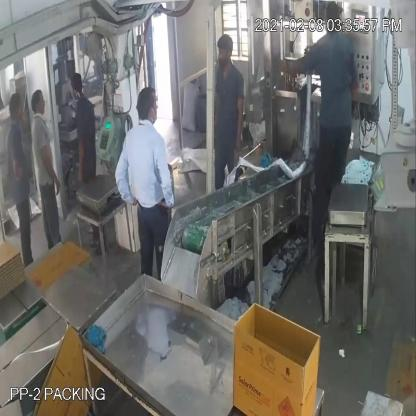no_glove: (107, 136, 145, 218), (36, 122, 64, 199), (232, 86, 252, 168), (158, 148, 182, 215), (5, 136, 30, 187), (72, 125, 90, 192), (274, 50, 313, 79)
